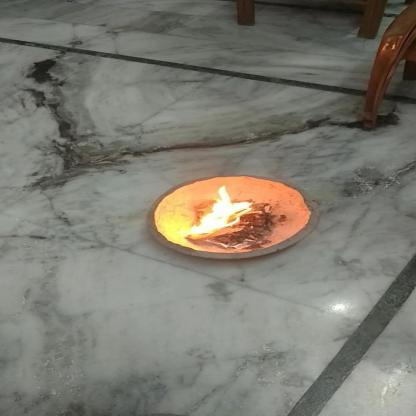fire: (189, 184, 256, 236)
